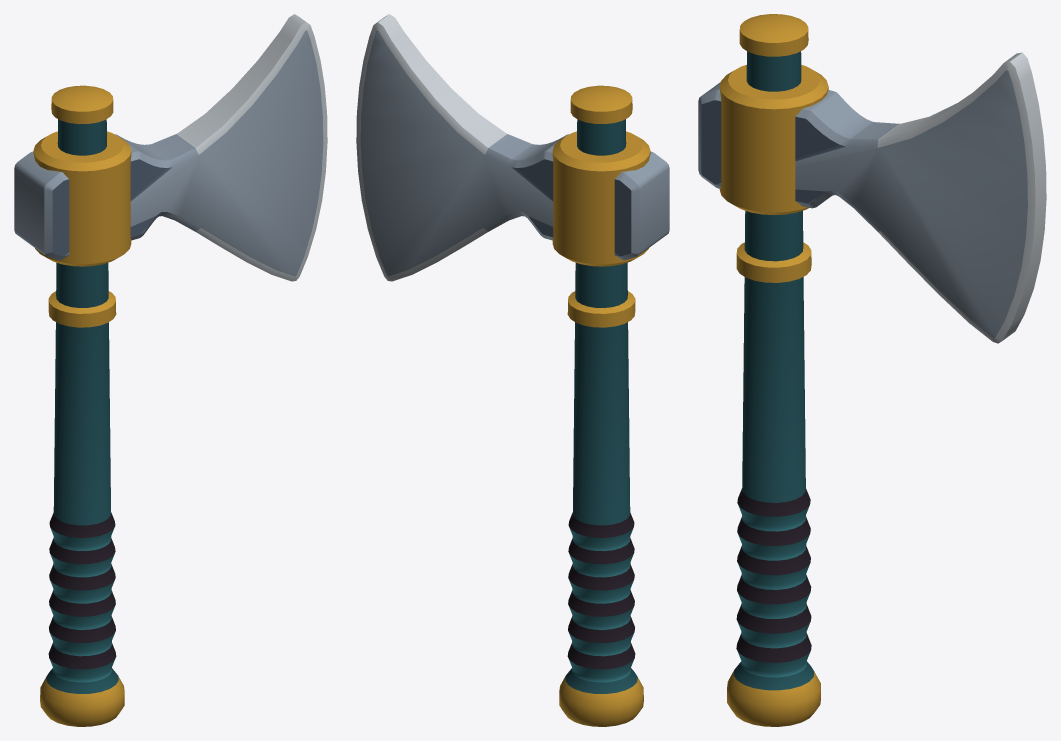
The model's file is Axe_01.glb.
3 renders of one model, left to right at view 1: azimuth 30°, elevation 25°; view 2: azimuth 150°, elevation 25°; view 3: azimuth 330°, elevation 25°, orthographic. The views are drawn at different scales.
Visible parts, largest first — view 1: Axe_01; view 2: Axe_01; view 3: Axe_01.
Boxes of the visible parts, x1,y1,x2,y2 form: Axe_01: (14,14,327,726); Axe_01: (356,14,669,726); Axe_01: (698,14,1046,726).
Size of the model in its own units: 2.25 by 4.68 by 0.65.
